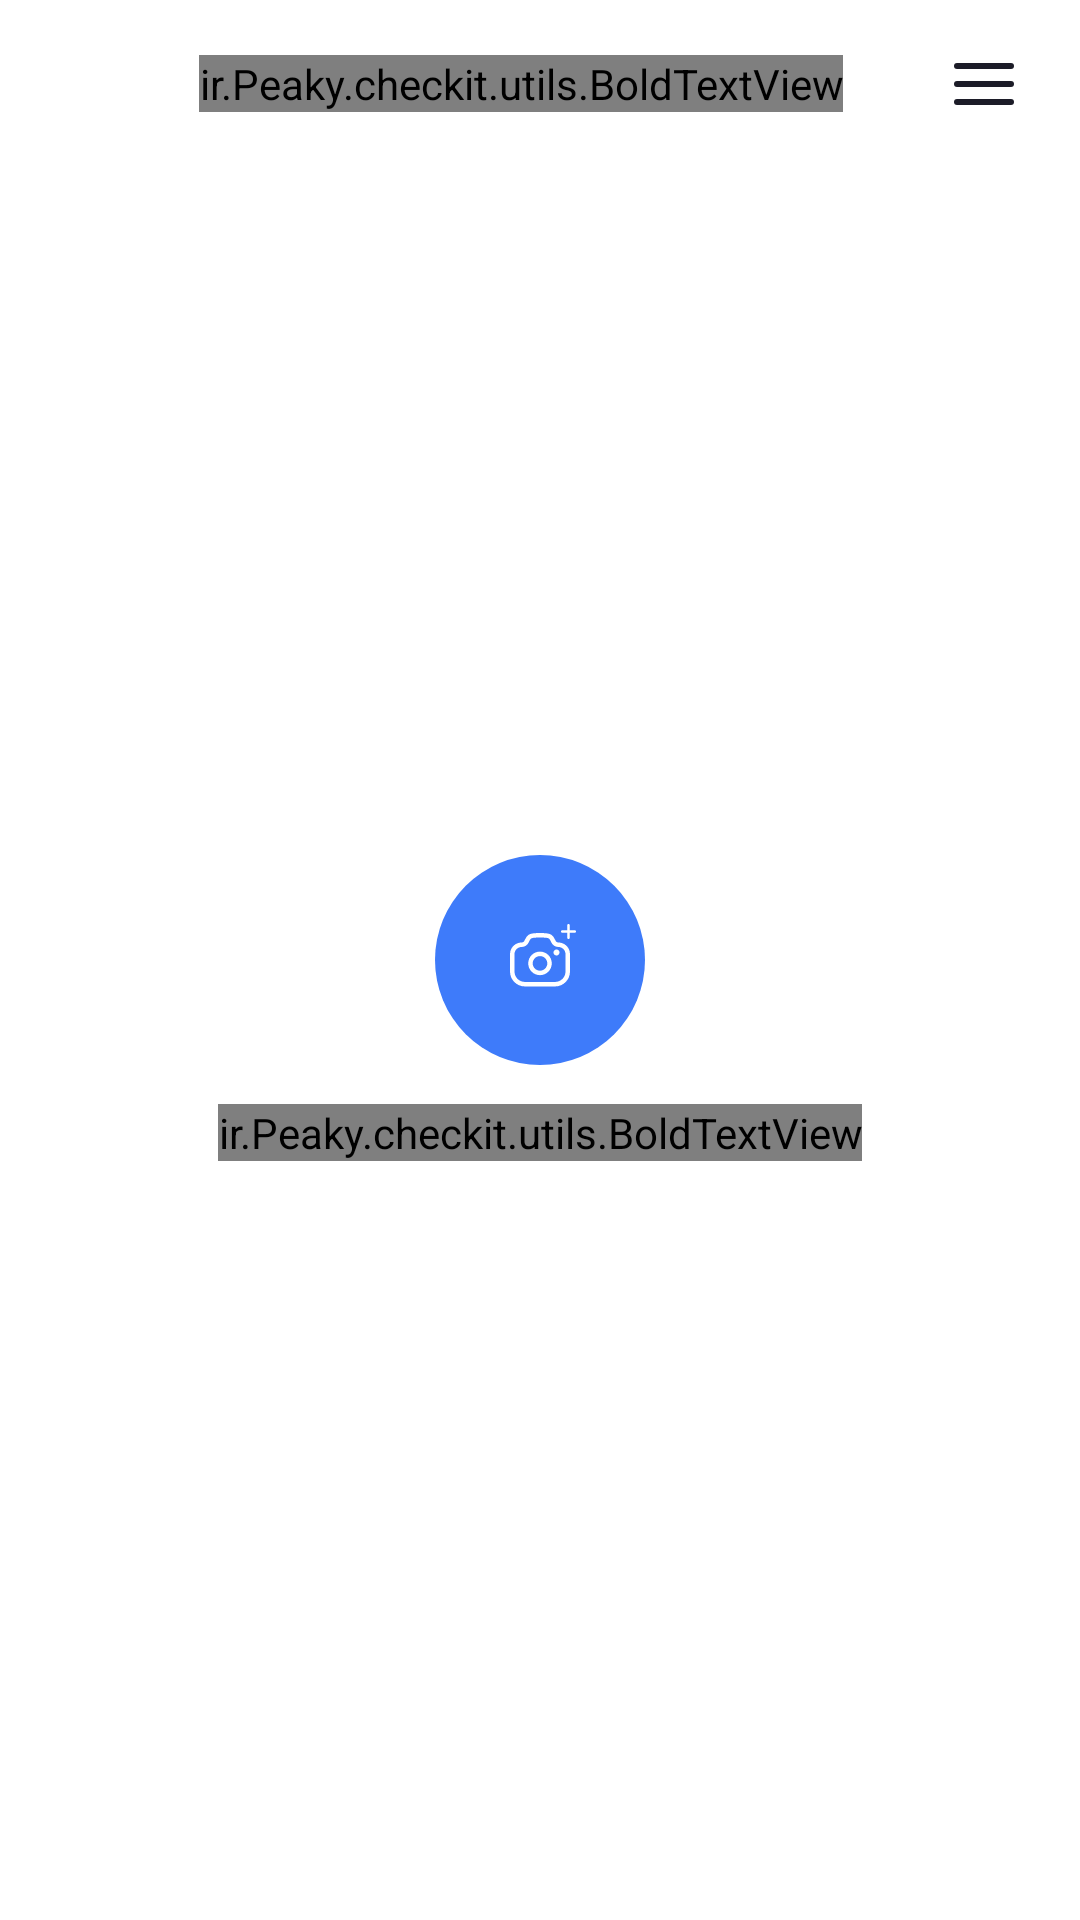

Icon bounding boxes for this 1080 x 1920 phone screenshot, format (x1, y1, x2, y2):
camera: (435, 855, 645, 1065)
menu: (954, 63, 1014, 105)
